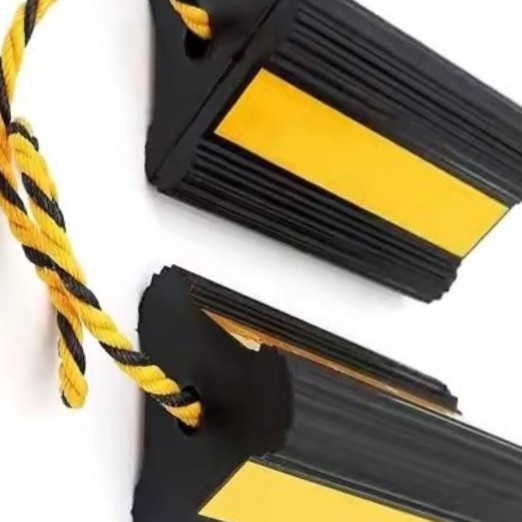chock: (93, 0, 522, 357), (78, 191, 522, 522)
